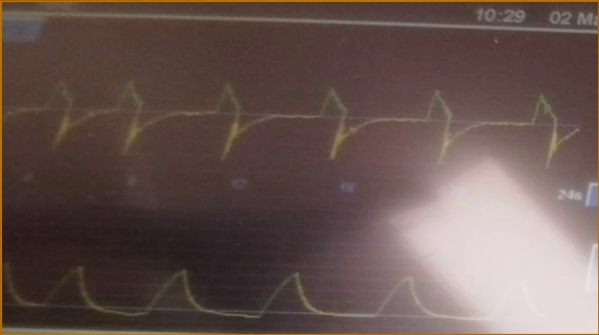Accumulation Flow: (7, 64, 578, 172)
Volume: (4, 238, 513, 325)
